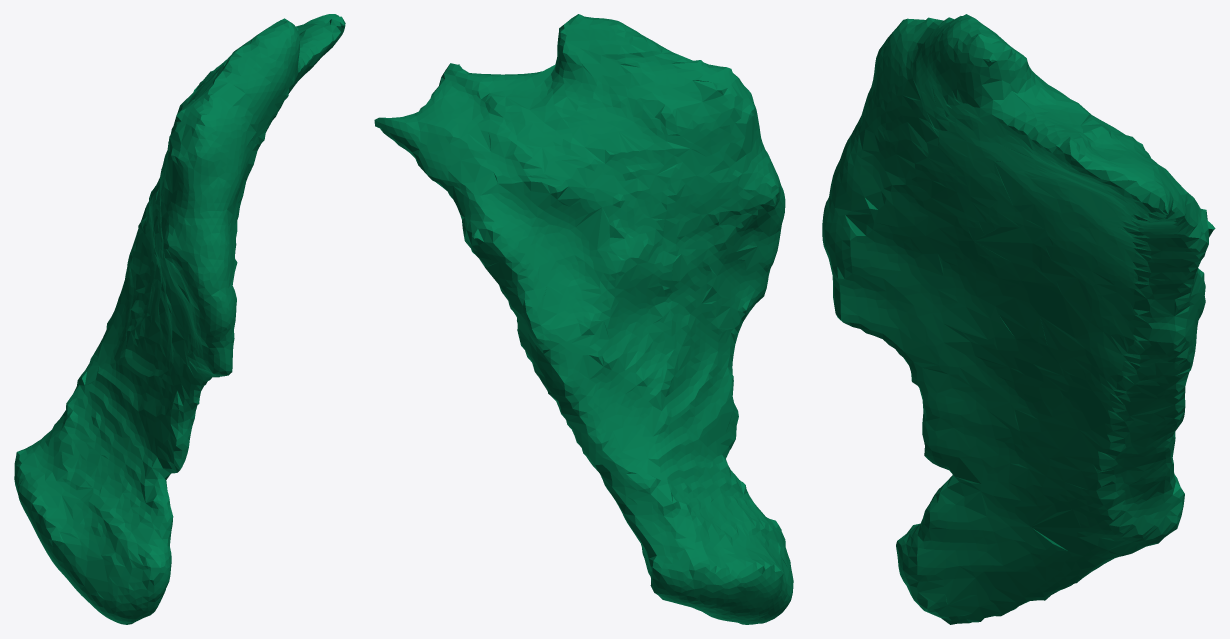
Rendered from Model_10212_LH__Claustrum_(Cl).obj.
3 renders of one model, left to right at view 1: azimuth 30°, elevation 25°; view 2: azimuth 150°, elevation 25°; view 3: azimuth 270°, elevation 25°, orthographic. The views are drawn at different scales.
Size of the model in its own units: 4.48 by 6.9 by 3.54.
